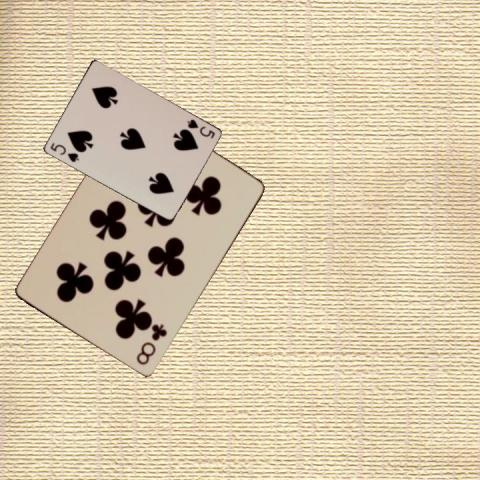5s: (47, 140, 80, 164), (183, 116, 216, 140)
8c: (133, 321, 169, 368)
